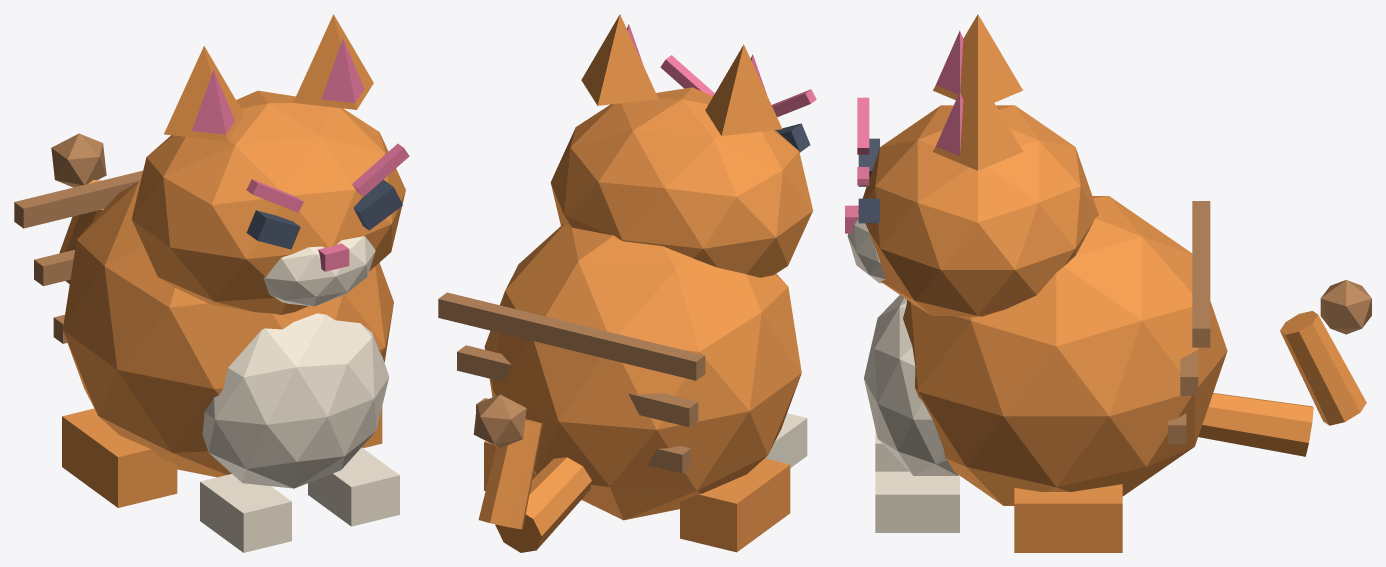
Rendered from cat.glb.
3 renders of one model, left to right at view 1: azimuth 30°, elevation 25°; view 2: azimuth 150°, elevation 25°; view 3: azimuth 270°, elevation 25°, orthographic. The views are drawn at different scales.
Visible parts, largest first — view 1: body, head, ear_l, ear_r, tail; view 2: body, head, tail, ear_r, ear_l; view 3: body, head, tail, ear_r, ear_l.
Boxes of the visible parts, box(x1,y1,x2,y2) form: body: box(14, 170, 399, 552); head: box(131, 90, 409, 314); ear_l: box(164, 46, 244, 141); ear_r: box(293, 14, 373, 109); tail: box(51, 133, 106, 283); body: box(438, 224, 807, 552); head: box(550, 55, 816, 277); tail: box(473, 394, 591, 552); ear_r: box(581, 14, 658, 105); ear_l: box(705, 44, 782, 135); body: box(864, 196, 1227, 552); head: box(845, 97, 1098, 316); tail: box(1198, 280, 1371, 456); ear_r: box(933, 75, 1022, 170); ear_l: box(933, 14, 1022, 102).
Size of the model in its own units: 0.5136 by 0.83 by 0.8725.
